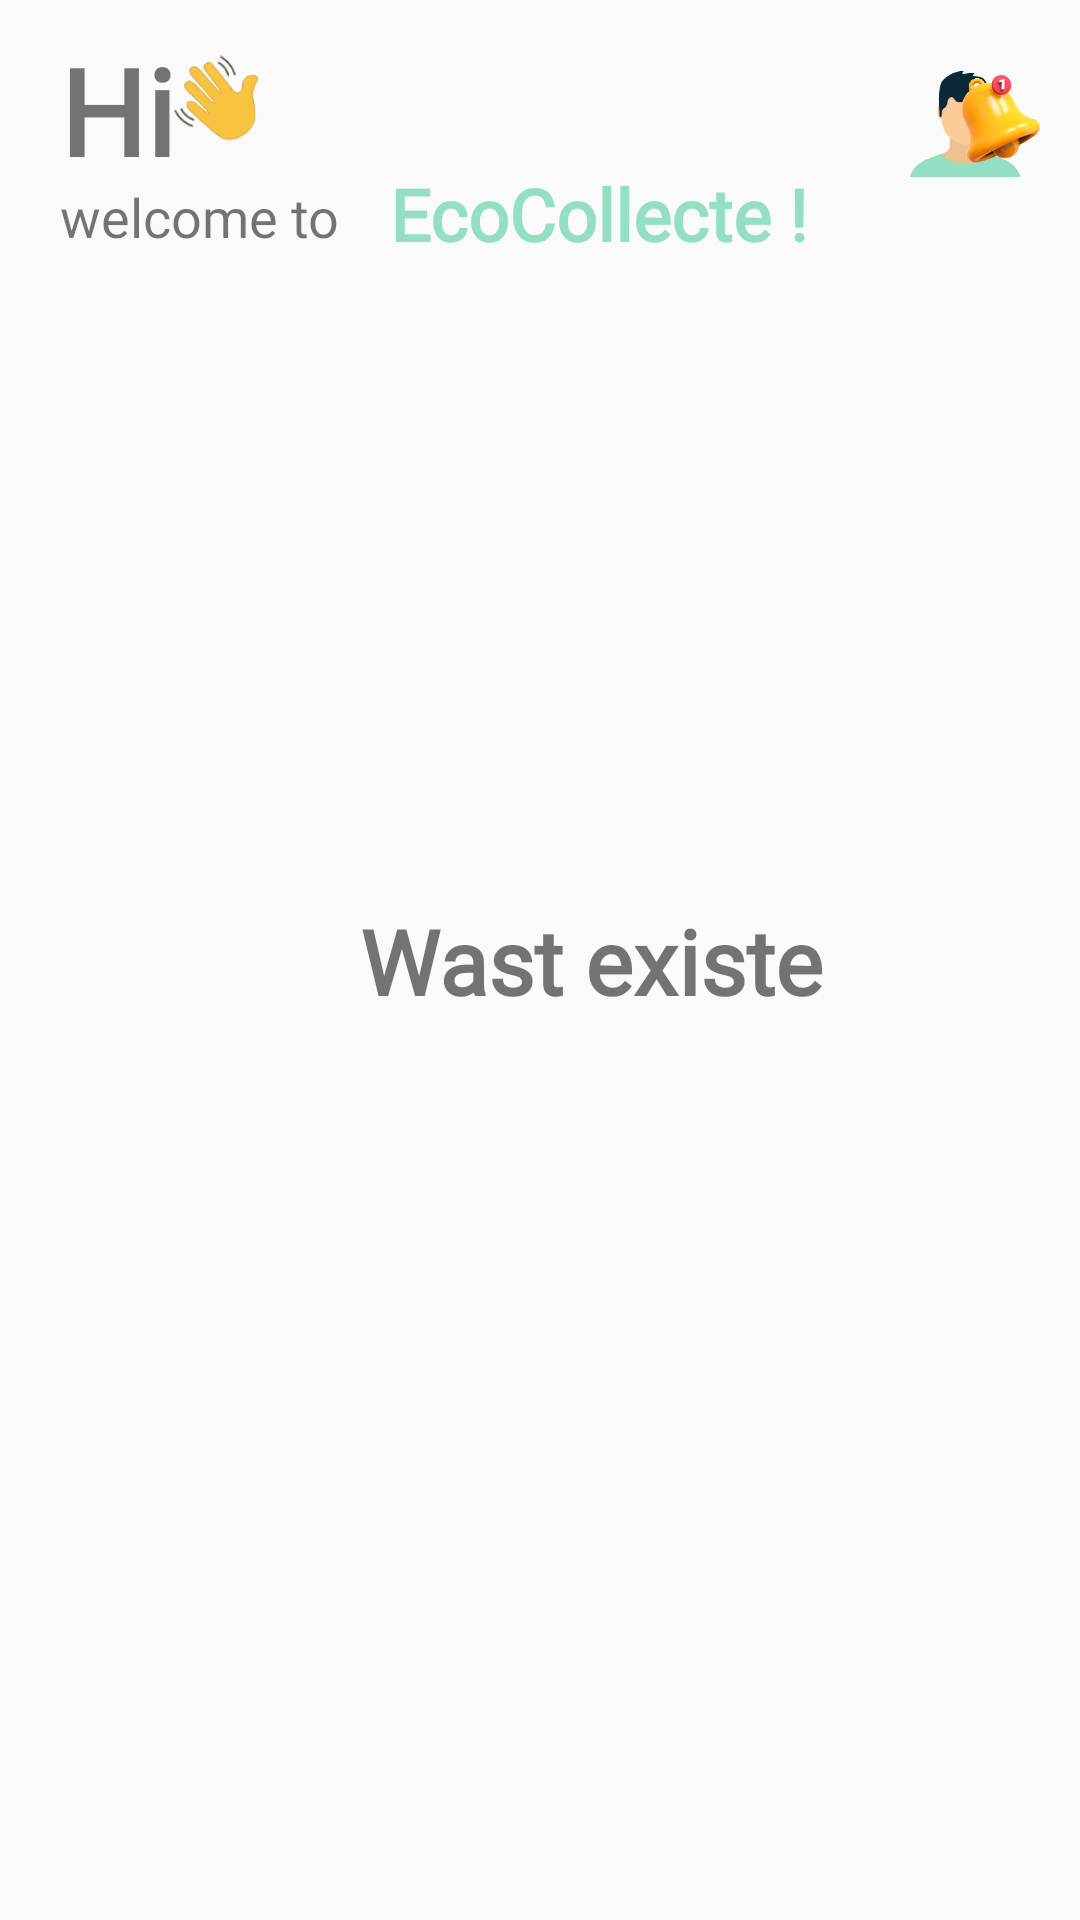

Screen size 1080x1920. Icon name, then its box in pixels as (x1, y1, x2, y2):
notiiii: (930, 71, 1040, 177)
